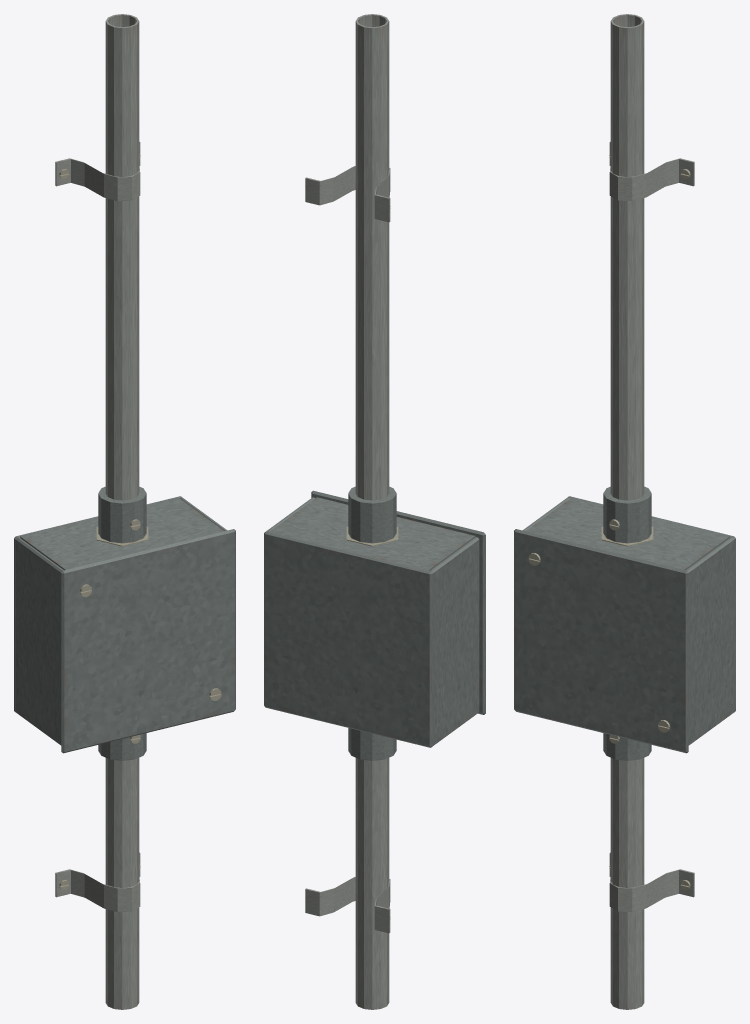
Rendered from motel_surface_junction.glb.
The picture shows the model from 3 angles, left to right: view 1: azimuth 30°, elevation 25°; view 2: azimuth 150°, elevation 25°; view 3: azimuth 330°, elevation 25°; orthographic projection.
Parts seen in each view (by area): view 1: motel_surface_junction_candidate; view 2: motel_surface_junction_candidate; view 3: motel_surface_junction_candidate.
Boxes of the visible parts, bbox=[...] form: motel_surface_junction_candidate: bbox=[14, 14, 235, 1009]; motel_surface_junction_candidate: bbox=[264, 14, 485, 1009]; motel_surface_junction_candidate: bbox=[514, 14, 735, 1009].
Bounding box in the file's own units: 0.108 × 0.58 × 0.058.
1 material, 1 textured.
